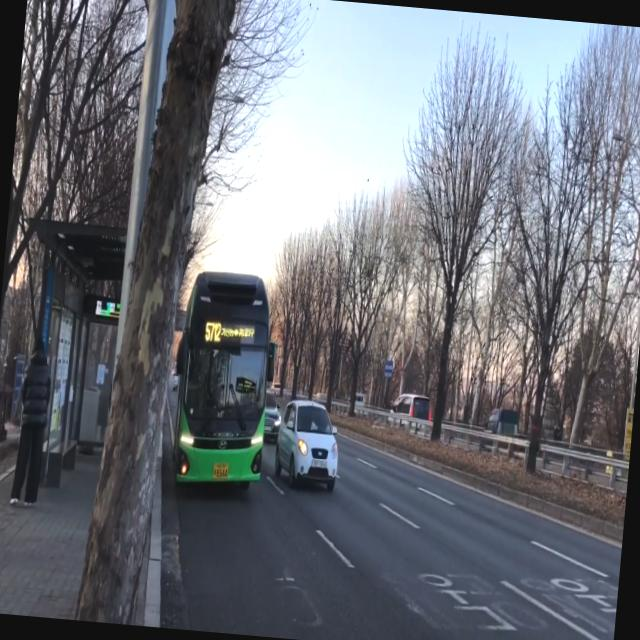bus-number: (204, 320, 222, 342)
